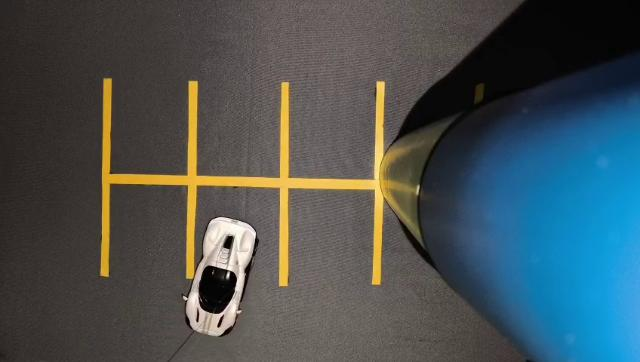toy_car: (163, 195, 266, 349)
